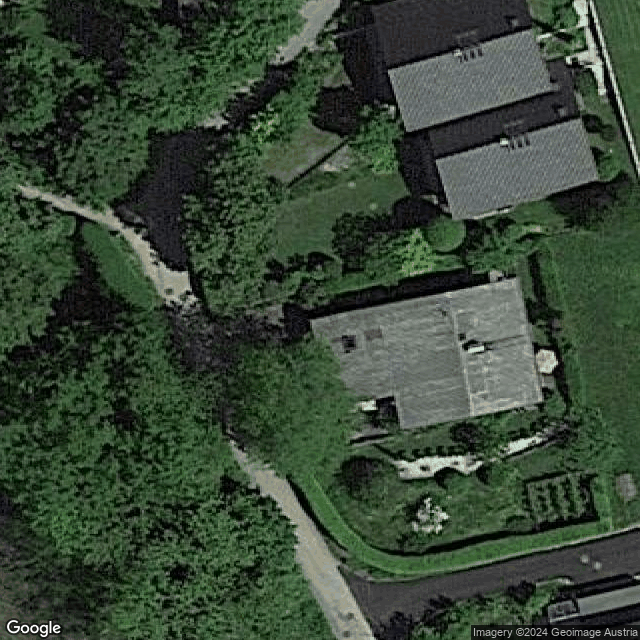obstacles: (467, 341, 485, 354), (452, 48, 464, 60), (499, 137, 509, 149)
roof: (312, 277, 541, 429), (428, 56, 600, 220), (371, 1, 552, 133)
